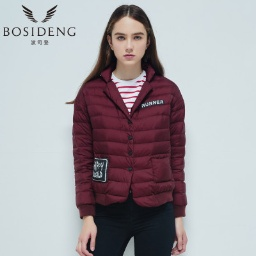face: (88, 2, 172, 83)
